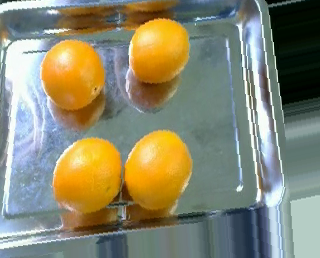Orange: (122, 129, 194, 212), (52, 135, 123, 213), (39, 38, 104, 110), (127, 16, 191, 83)
